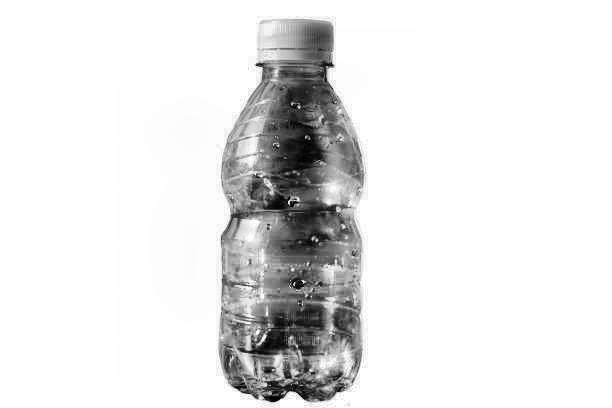waterbottle: (195, 10, 404, 405)
